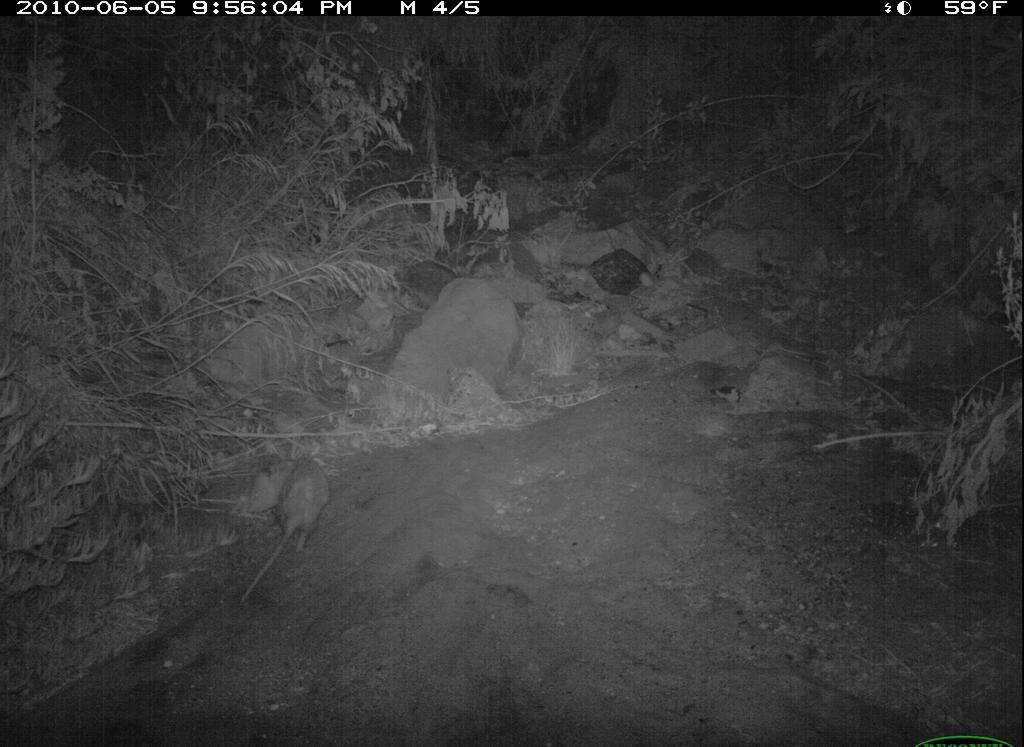opossum: (232, 452, 337, 617)
